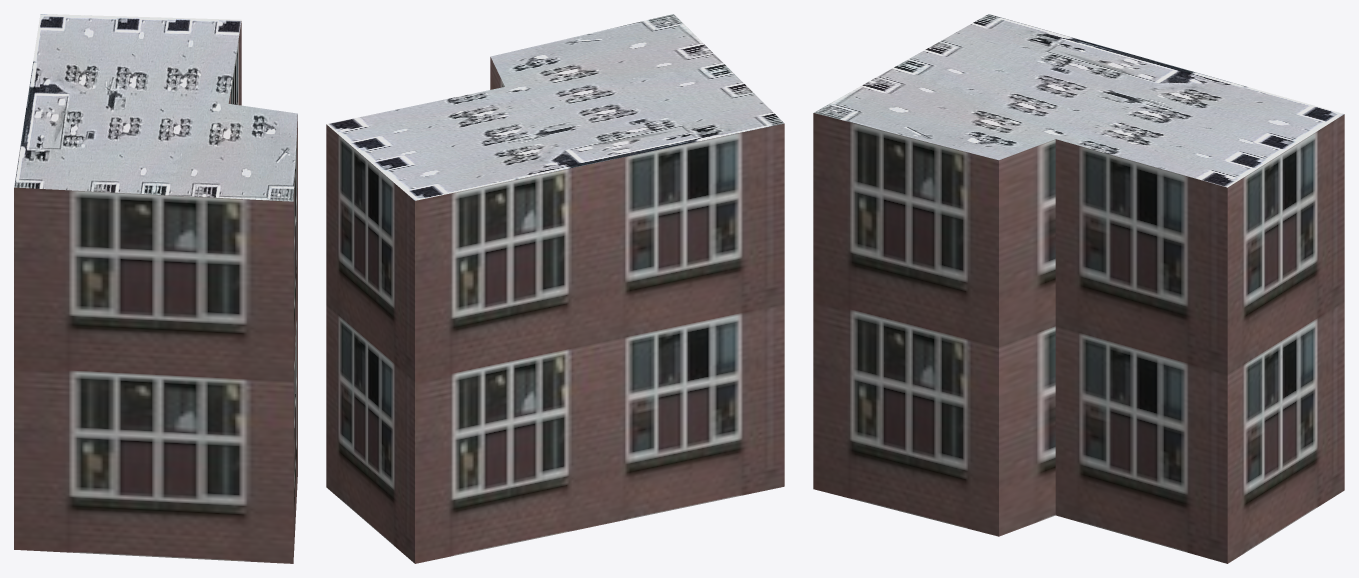
File: ResTex__2027.fbx
3 views of the same model, side by side, from view 1: azimuth 30°, elevation 25°; view 2: azimuth 150°, elevation 25°; view 3: azimuth 270°, elevation 25° (orthographic). The views are drawn at different scales.
Visible parts, largest first — view 1: CityEngineMaterial_12_m, CityEngineMaterial_m; view 2: CityEngineMaterial_12_m, CityEngineMaterial_m; view 3: CityEngineMaterial_12_m, CityEngineMaterial_m.
Boxes of the visible parts, x1,y1,x2,y2 form: CityEngineMaterial_12_m: (14, 21, 297, 563); CityEngineMaterial_m: (14, 14, 297, 201); CityEngineMaterial_12_m: (326, 57, 784, 563); CityEngineMaterial_m: (326, 14, 784, 200); CityEngineMaterial_12_m: (813, 113, 1344, 563); CityEngineMaterial_m: (814, 14, 1344, 187).
Size of the model in its own units: 5.94 by 6 by 7.67.
Materials: 2 (2 with a texture image).
